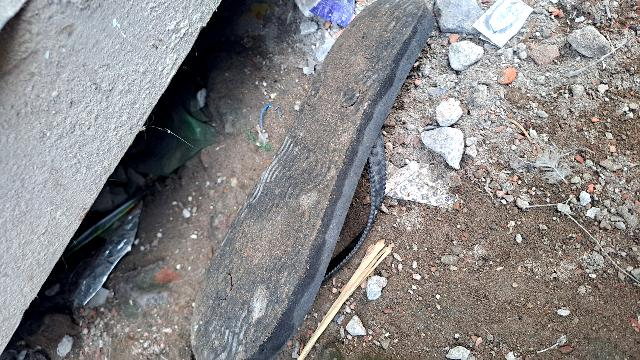sandal: (168, 0, 443, 360)
